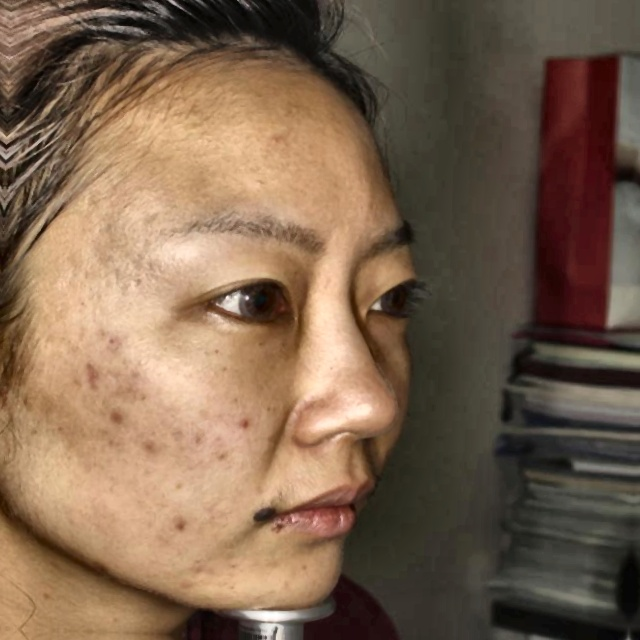comedone: (176, 559, 213, 599), (175, 510, 198, 542), (102, 399, 123, 427)
